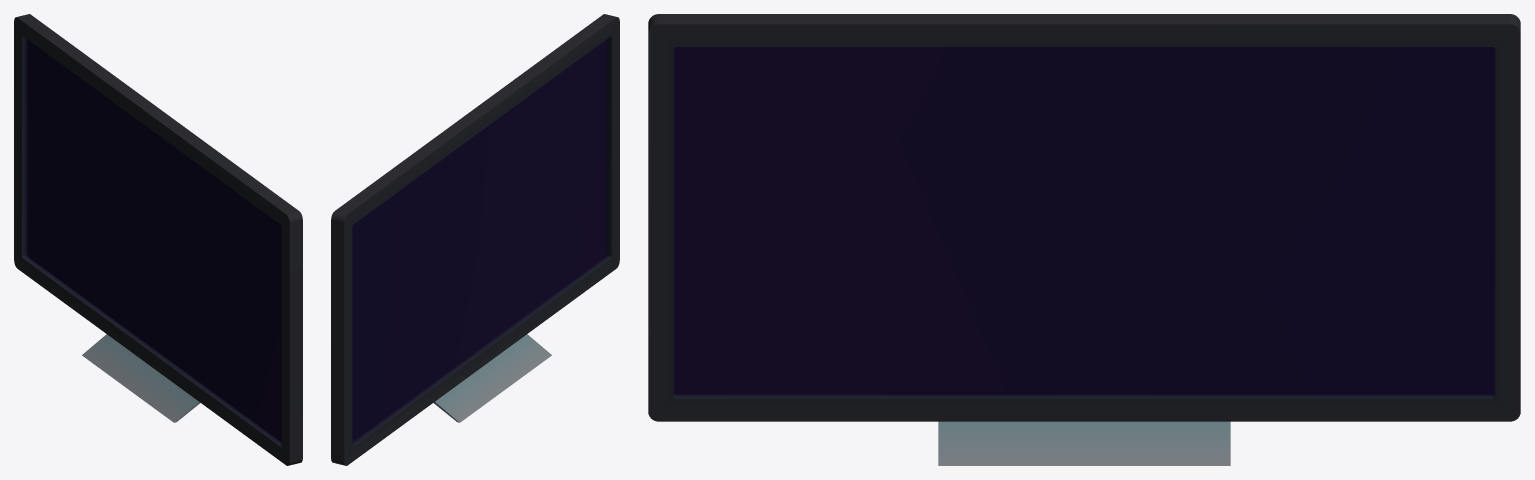
3 renders of one model, left to right at view 1: azimuth 30°, elevation 25°; view 2: azimuth 150°, elevation 25°; view 3: azimuth 270°, elevation 25°, orthographic. The views are drawn at different scales.
Parts seen in each view (by area): view 1: frame, sloping_foot; view 2: frame, sloping_foot; view 3: frame, sloping_foot.
Boxes of the visible parts, box(x1,y1,x2,y2) form: frame: box(14, 14, 302, 465); sloping_foot: box(82, 334, 200, 422); frame: box(331, 14, 619, 465); sloping_foot: box(433, 334, 551, 422); frame: box(648, 14, 1520, 421); sloping_foot: box(938, 421, 1230, 465).
Size of the model in its own units: 0.187 by 0.7757 by 1.45.
